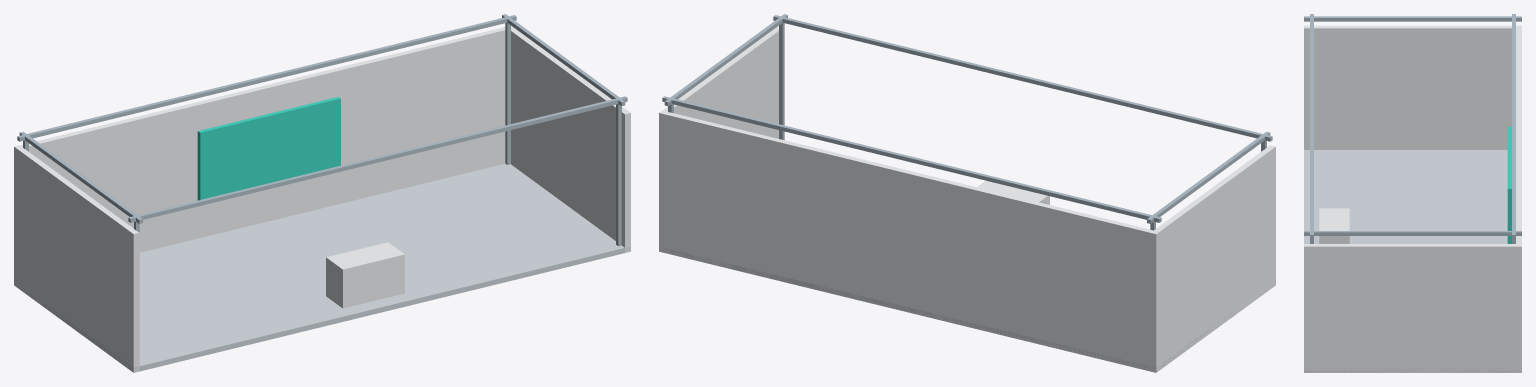
The picture shows the model from 3 angles, left to right: view 1: azimuth 30°, elevation 25°; view 2: azimuth 150°, elevation 25°; view 3: azimuth 270°, elevation 25°; orthographic projection. The views are drawn at different scales.
Visible parts, largest first — view 1: Exhibition Booth Concept; view 2: Exhibition Booth Concept; view 3: Exhibition Booth Concept.
Boxes of the visible parts, box(x1,y1,x2,y2) form: Exhibition Booth Concept: box(14, 14, 630, 372); Exhibition Booth Concept: box(659, 14, 1275, 372); Exhibition Booth Concept: box(1304, 14, 1521, 372).
Size of the model in its own units: 12 by 3.49 by 5.
